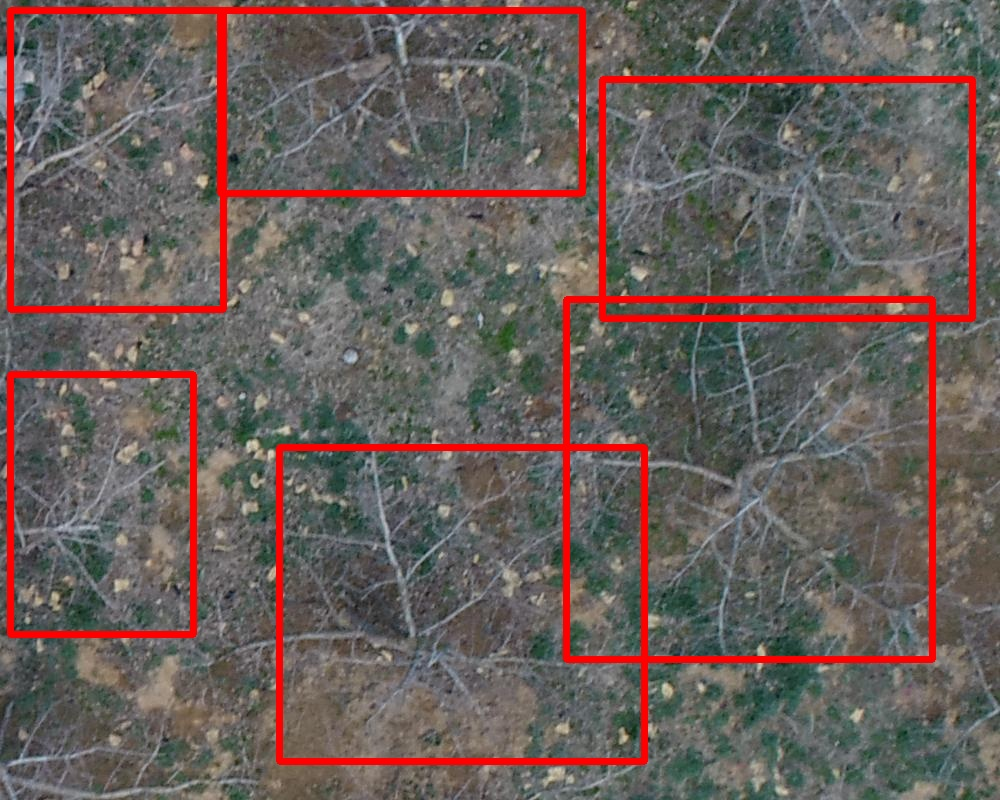apple: (566, 299, 932, 659), (279, 447, 644, 761), (602, 79, 972, 318), (220, 10, 582, 193), (10, 10, 223, 309), (10, 374, 193, 634)
